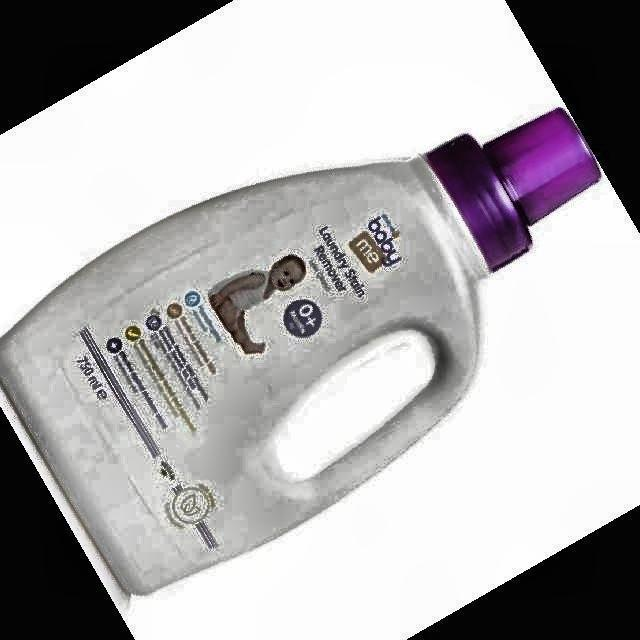plastic: (0, 108, 601, 594)
